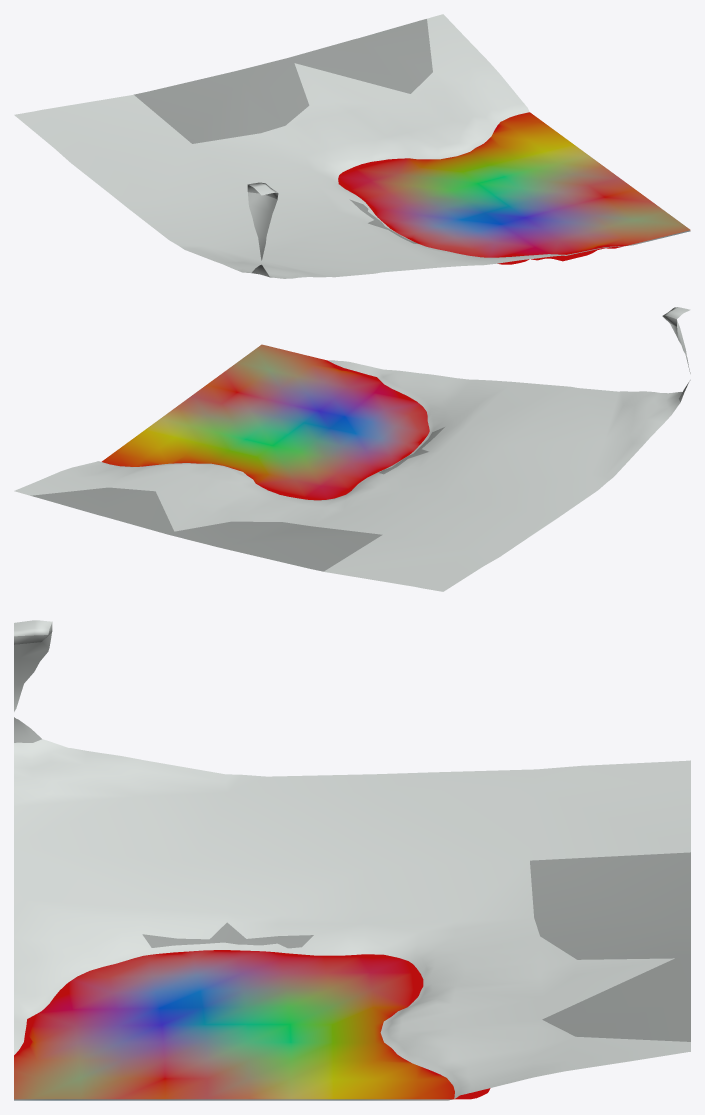
The picture shows the model from 3 angles, top to bottom: view 1: azimuth 30°, elevation 25°; view 2: azimuth 150°, elevation 25°; view 3: azimuth 270°, elevation 25°; orthographic projection. The views are drawn at different scales.
Parts seen in each view (by area): view 1: G:\FFXIV-MapTools\exports\r2f1\bg\ex1\01_roc_r2\fld\r2f1\bgp (×5); view 2: G:\FFXIV-MapTools\exports\r2f1\bg\ex1\01_roc_r2\fld\r2f1\bgp (×4); view 3: G:\FFXIV-MapTools\exports\r2f1\bg\ex1\01_roc_r2\fld\r2f1\bgp (×8).
Boxes of the visible parts, box(x1,y1,x2,y2) form: G:\FFXIV-MapTools\exports\r2f1\bg\ex1\01_roc_r2\fld\r2f1\bgp (×5): box(14, 14, 690, 278); G:\FFXIV-MapTools\exports\r2f1\bg\ex1\01_roc_r2\fld\r2f1\bgp (×4): box(14, 307, 690, 591); G:\FFXIV-MapTools\exports\r2f1\bg\ex1\01_roc_r2\fld\r2f1\bgp (×8): box(14, 620, 690, 1100).
Size of the model in its own units: 128 by 40.56 by 128.
